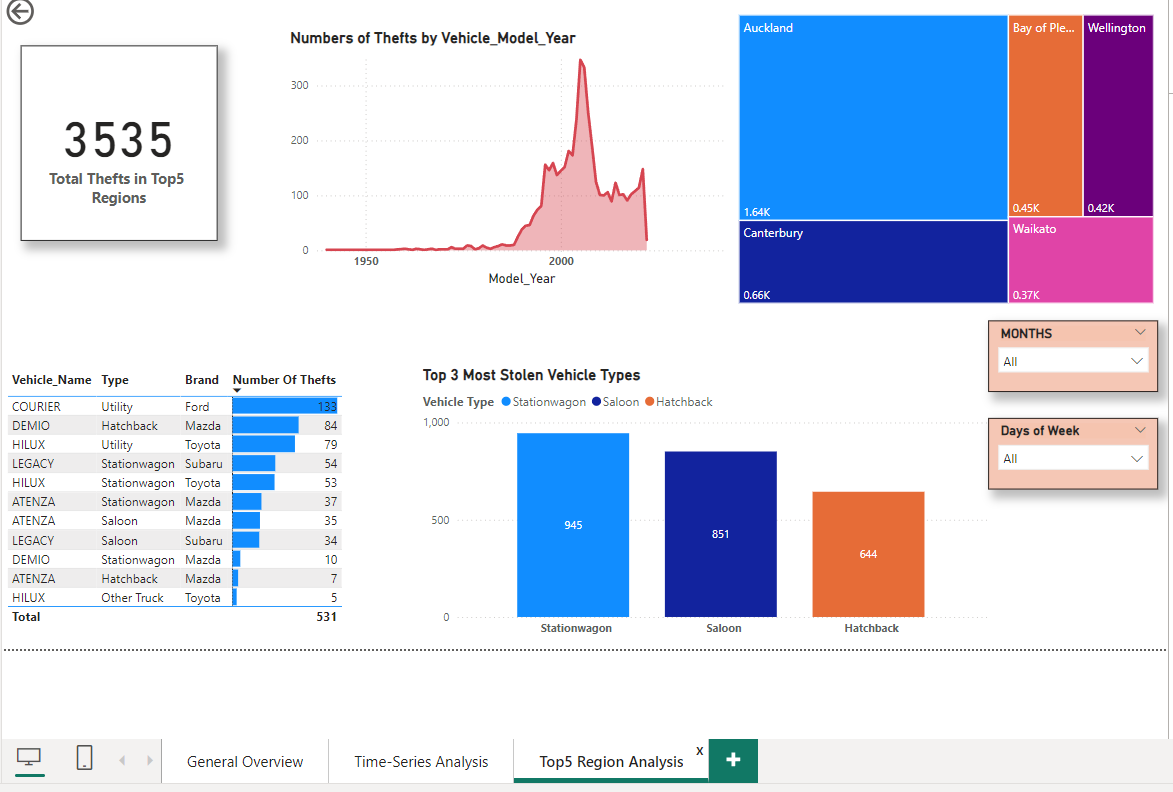

What the dashboard file says about the page in this screenshot:
{"tool":"powerbi","page":{"name":"Top5 Region Analysis","canvas":[1280,720],"ordinal":2},"visuals":[{"type":"treemap","fields":{"Group":["stolen_vehicles_db locations.region"],"Values":["CountNonNull(stolen_vehicles_db stolen_vehicles.vehicle_id)"]},"box":[804.1,19.2,465.2,326.6],"z":0},{"type":"columnChart","title":"Top 3 Most Stolen Vehicle Types","fields":{"Category":["stolen_vehicles_db stolen_vehicles.vehicle_type","stolen_vehicles_db stolen_vehicles.vehicle_desc"],"Y":["CountNonNull(stolen_vehicles_db stolen_vehicles.vehicle_id)"],"Series":["stolen_vehicles_db stolen_vehicles.vehicle_type"]},"box":[456.9,408.9,632.6,306],"z":1000},{"type":"tableEx","fields":{"Values":["stolen_vehicles_db stolen_vehicles.vehicle_desc","stolen_vehicles_db stolen_vehicles.vehicle_type","stolen_vehicles_db make_details.make_name","stolen_vehicles_db stolen_vehicles.Number Of Thefts"]},"box":[0,408.9,403.4,295],"z":2000},{"type":"card","fields":{"Values":["stolen_vehicles_db stolen_vehicles.Number Of Thefts"]},"box":[20,57.1,215.7,214.3],"z":3000},{"type":"slicer","fields":{"Values":["Date.Year Month","Date.Day of Week"]},"box":[1082.7,359.5,186.6,78.2],"z":4000},{"type":"areaChart","fields":{"Category":["stolen_vehicles_db stolen_vehicles.model_year"],"Y":["CountNonNull(stolen_vehicles_db stolen_vehicles.vehicle_id)"]},"box":[311.5,38.4,492.6,288.2],"z":5000},{"type":"actionButton","box":[0,0,100,40],"z":6000},{"type":"slicer","fields":{"Values":["Date.Day of Week"]},"box":[1082.7,466.6,186.6,78.2],"z":6001}]}

Visuals, with their boxes on the page's 1280x720 design canvas (x1, y1, x2, y2). These are canvas units, not pixel positions in the 1173x792 screenshot, which may show the page scaled, cropped or inside an application window:
treemap - stolen_vehicles_db locations.region x CountNonNull(stolen_vehicles_db stolen_vehicles.vehicle_id): detection(804, 19, 1269, 346)
"Top 3 Most Stolen Vehicle Types" columnChart: detection(457, 409, 1090, 715)
tableEx - stolen_vehicles_db stolen_vehicles.vehicle_desc x stolen_vehicles_db stolen_vehicles.vehicle_type: detection(0, 409, 403, 704)
card - stolen_vehicles_db stolen_vehicles.Number Of Thefts: detection(20, 57, 236, 271)
slicer - Date.Year Month x Date.Day of Week: detection(1083, 360, 1269, 438)
areaChart - stolen_vehicles_db stolen_vehicles.model_year x CountNonNull(stolen_vehicles_db stolen_vehicles.vehicle_id): detection(312, 38, 804, 327)
actionButton: detection(0, 0, 100, 40)
slicer - Date.Day of Week: detection(1083, 467, 1269, 545)
